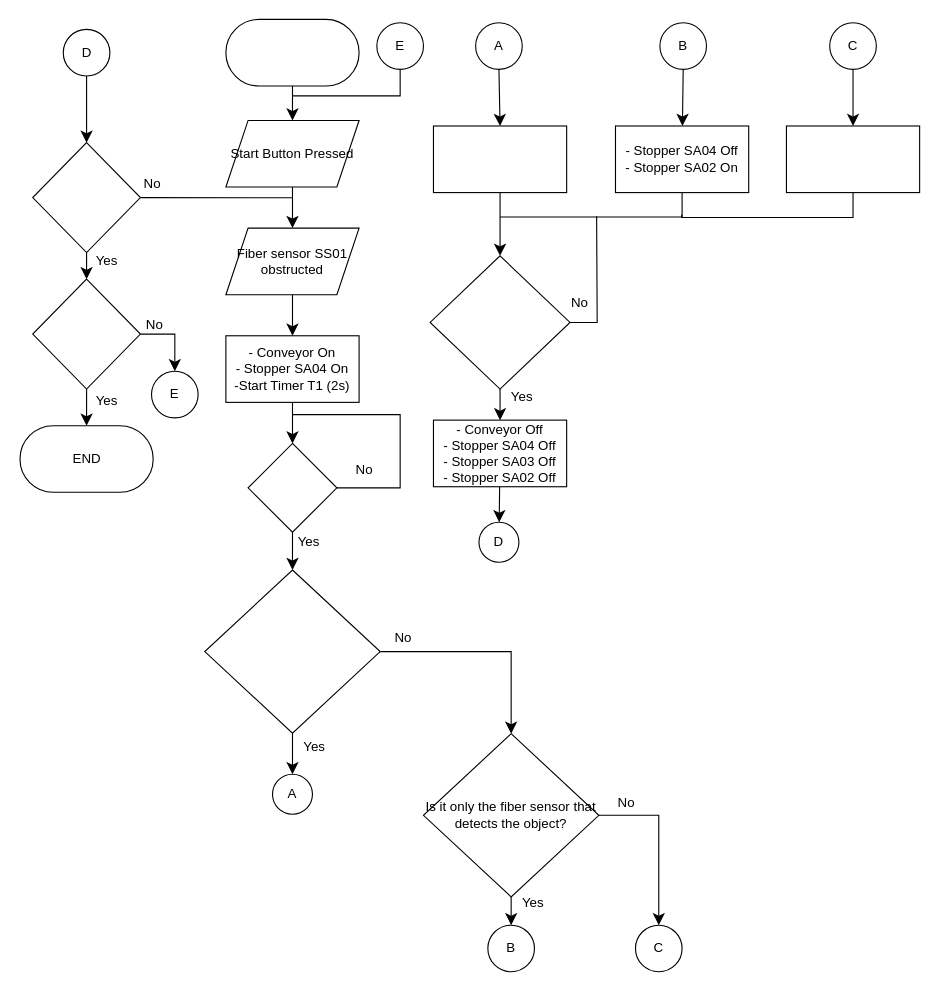
This 939x991 diagram has some shape labels left out. The shapes that lost their labels are listed below. From the top down, each one's centre as x and y in pixels, then its label:
At pixel 292 52: "START".
At pixel 499 159: "- Stopper SA04 Off - Stopper SA03 On".
At pixel 852 159: "- Stopper SA04 Off".
At pixel 86 197: "Has the stop button been pressed?".
At pixel 86 333: "Turn Off Power?".
At pixel 499 322: "Photoelectric Sensor has detected Object?".
At pixel 292 487: "T1 >= 2s?".
At pixel 292 651: "Fiber Sensor SS03 & Inductive Sensor SS02 Detect Object?".
